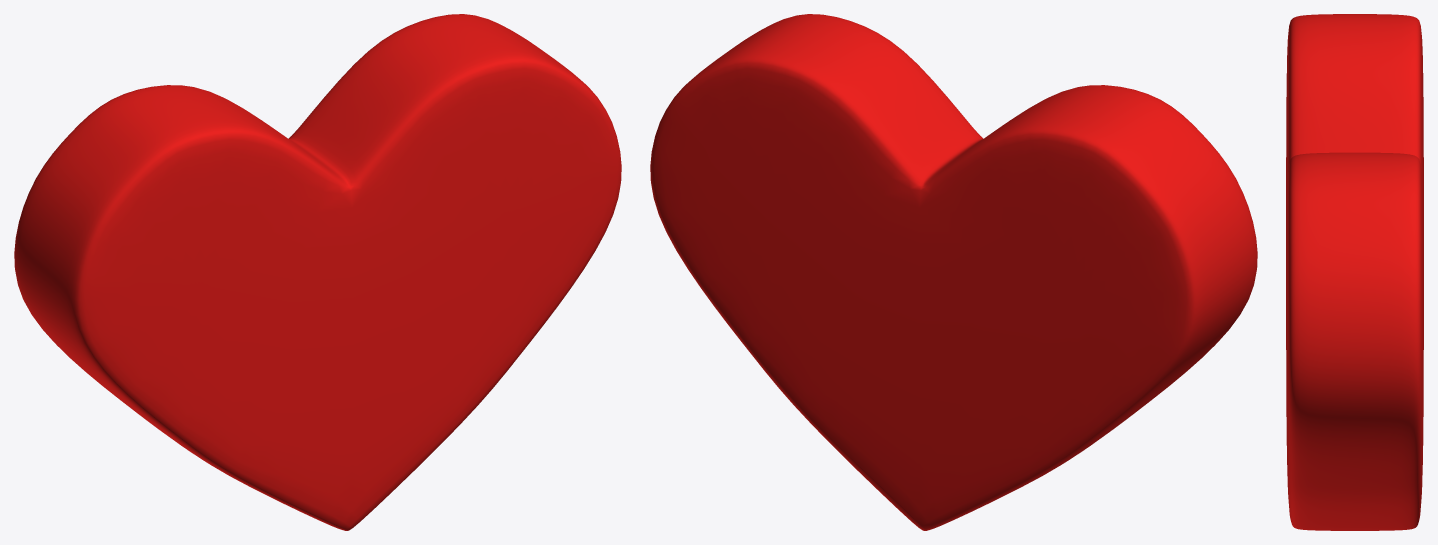
Rendered from HeartFBX.fbx.
The picture shows the model from 3 angles, left to right: view 1: azimuth 30°, elevation 25°; view 2: azimuth 150°, elevation 25°; view 3: azimuth 270°, elevation 25°; orthographic projection.
Visible parts, largest first — view 1: Vert; view 2: Vert; view 3: Vert.
Part boxes in pixels (x1,y1,x2,y2): Vert: [14, 14, 621, 530]; Vert: [650, 14, 1257, 530]; Vert: [1286, 14, 1423, 530].
Size of the model in its own units: 112 by 85.01 by 24.51.
